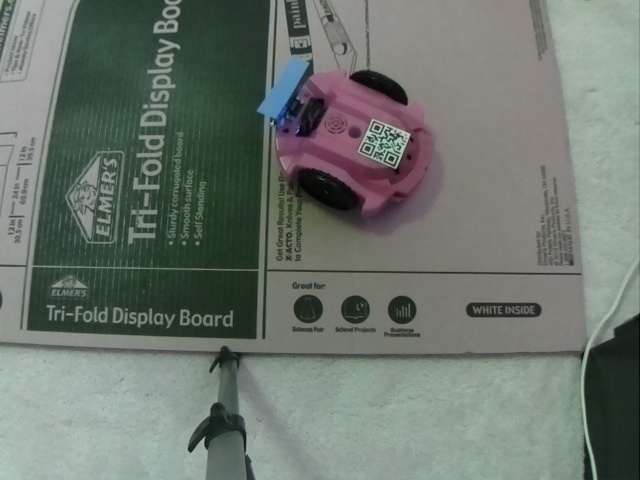chassis: (249, 51, 442, 228)
qr: (357, 118, 415, 170)
